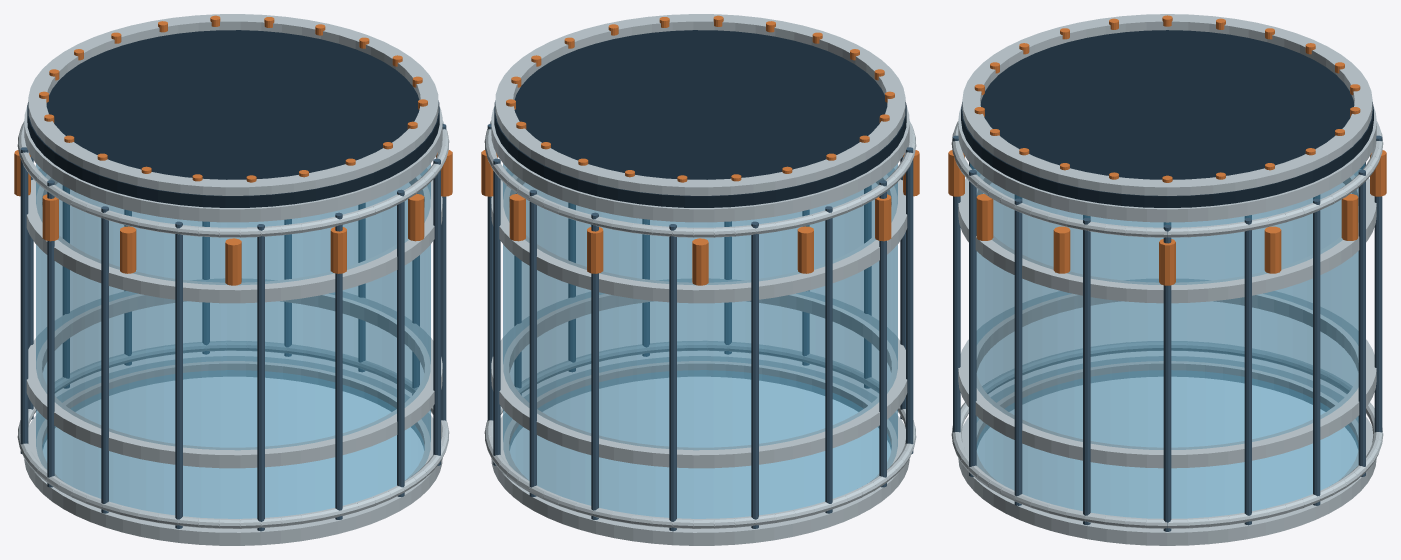
The model's file is 02_L76_PrecisionCopperPlatingCell.fbx.
The picture shows the model from 3 angles, left to right: view 1: azimuth 30°, elevation 25°; view 2: azimuth 150°, elevation 25°; view 3: azimuth 270°, elevation 25°; orthographic projection.
Visible parts, largest first — view 1: PrecisionCopperPlatingCell, PrecisionCopperPlatingCell_Part_0351, PrecisionCopperPlatingCell_Part_0352; view 2: PrecisionCopperPlatingCell, PrecisionCopperPlatingCell_Part_0351, PrecisionCopperPlatingCell_Part_0352; view 3: PrecisionCopperPlatingCell, PrecisionCopperPlatingCell_Part_0351, PrecisionCopperPlatingCell_Part_0352.
Boxes of the visible parts, box(x1,y1,x2,y2) form: PrecisionCopperPlatingCell: box(14, 106, 452, 545); PrecisionCopperPlatingCell_Part_0351: box(27, 30, 439, 207); PrecisionCopperPlatingCell_Part_0352: box(28, 14, 438, 195); PrecisionCopperPlatingCell: box(481, 106, 919, 545); PrecisionCopperPlatingCell_Part_0351: box(494, 30, 906, 207); PrecisionCopperPlatingCell_Part_0352: box(495, 14, 905, 195); PrecisionCopperPlatingCell: box(948, 106, 1386, 545); PrecisionCopperPlatingCell_Part_0351: box(961, 30, 1373, 207); PrecisionCopperPlatingCell_Part_0352: box(962, 14, 1372, 195).
Size of the model in its own units: 392 by 356 by 393.
